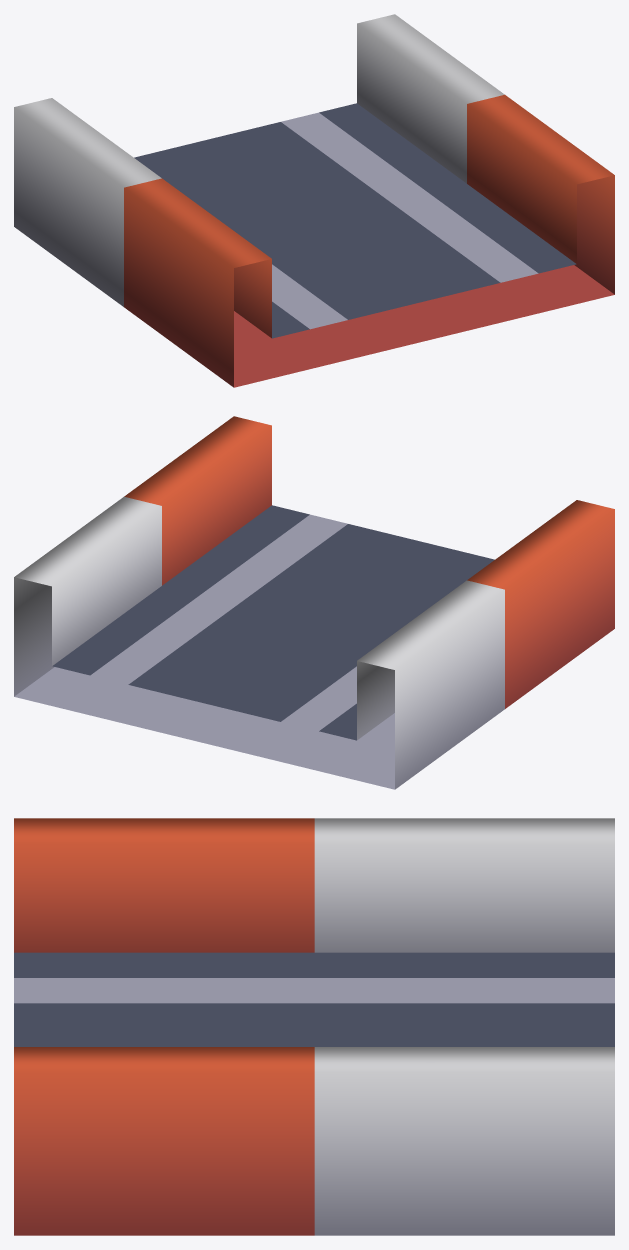
The model's file is track-road-narrow.glb.
3 views of the same model, one above another, from view 1: azimuth 30°, elevation 25°; view 2: azimuth 150°, elevation 25°; view 3: azimuth 270°, elevation 25° (orthographic). The views are drawn at different scales.
Visible parts, largest first — view 1: track-road-narrow; view 2: track-road-narrow; view 3: track-road-narrow.
Boxes of the visible parts, box(x1,y1,x2,y2) form: track-road-narrow: box(14, 14, 614, 387); track-road-narrow: box(14, 416, 614, 789); track-road-narrow: box(14, 818, 614, 1235).
Bounding box in the file's own units: 1 × 0.3 × 1.
